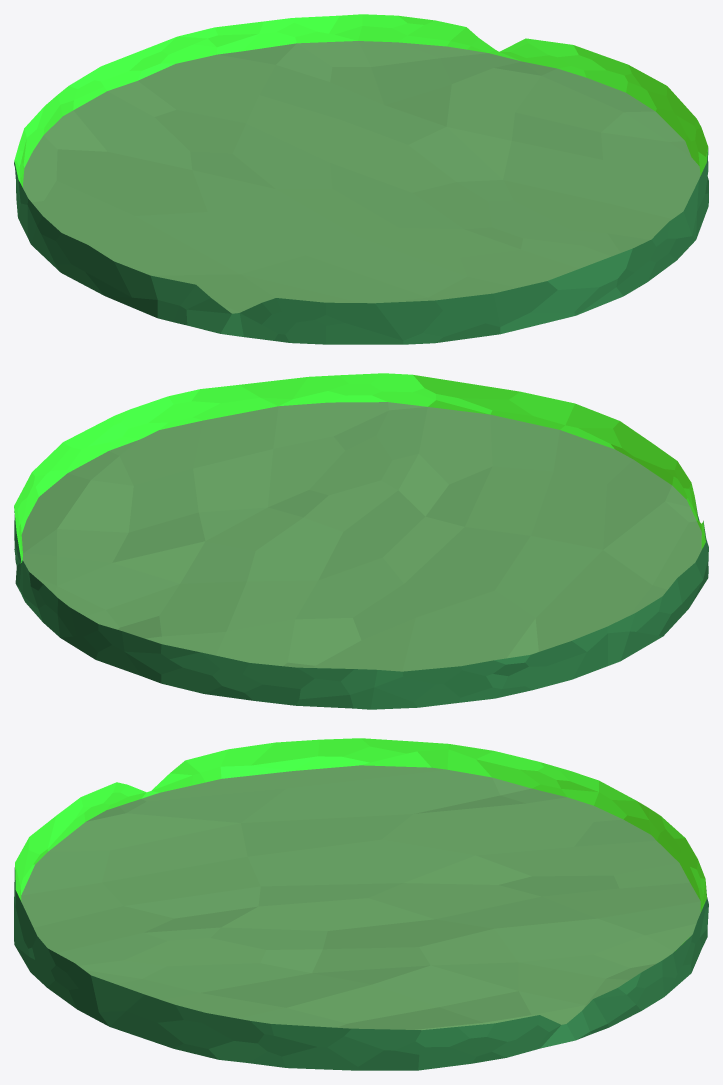
Rendered from plant_lily_pad_giant_A.fbx.
3 views of the same model, one above another, from view 1: azimuth 30°, elevation 25°; view 2: azimuth 150°, elevation 25°; view 3: azimuth 270°, elevation 25° (orthographic).
Parts seen in each view (by area): view 1: plant_lily_pad_giant_A; view 2: plant_lily_pad_giant_A; view 3: plant_lily_pad_giant_A.
Part boxes in pixels (<box>): plant_lily_pad_giant_A: <box>14,14,708,344</box>; plant_lily_pad_giant_A: <box>14,373,708,709</box>; plant_lily_pad_giant_A: <box>14,738,708,1070</box>.
Bounding box in the file's own units: 211 × 14.56 × 210.
